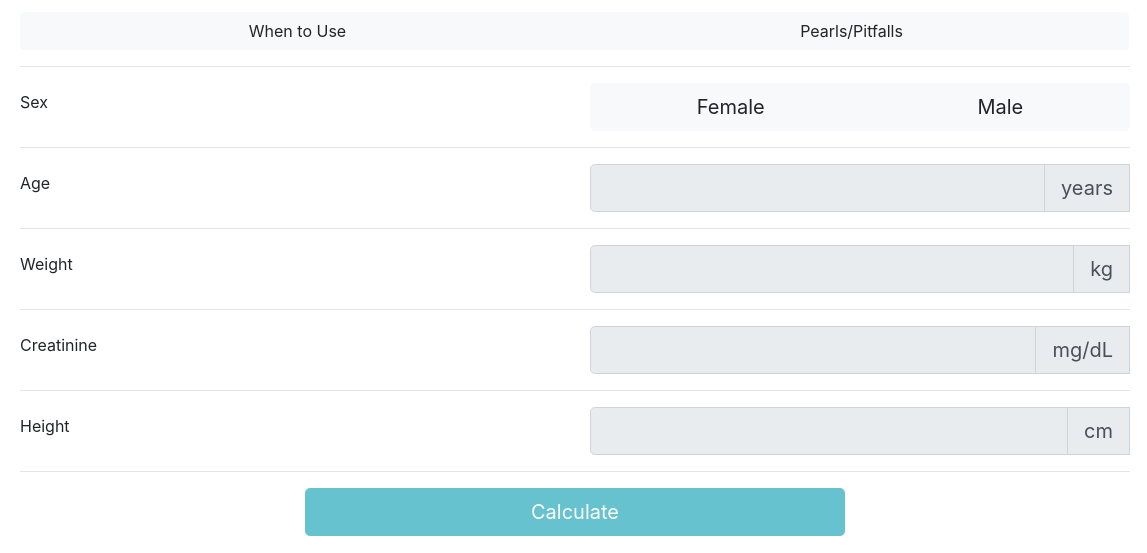
Test case: Application › shows information about › when to use calculator
This screenshot has width=1147, height=553.
Click the button "When to Use" at (298, 31), box [20,12,575,50]
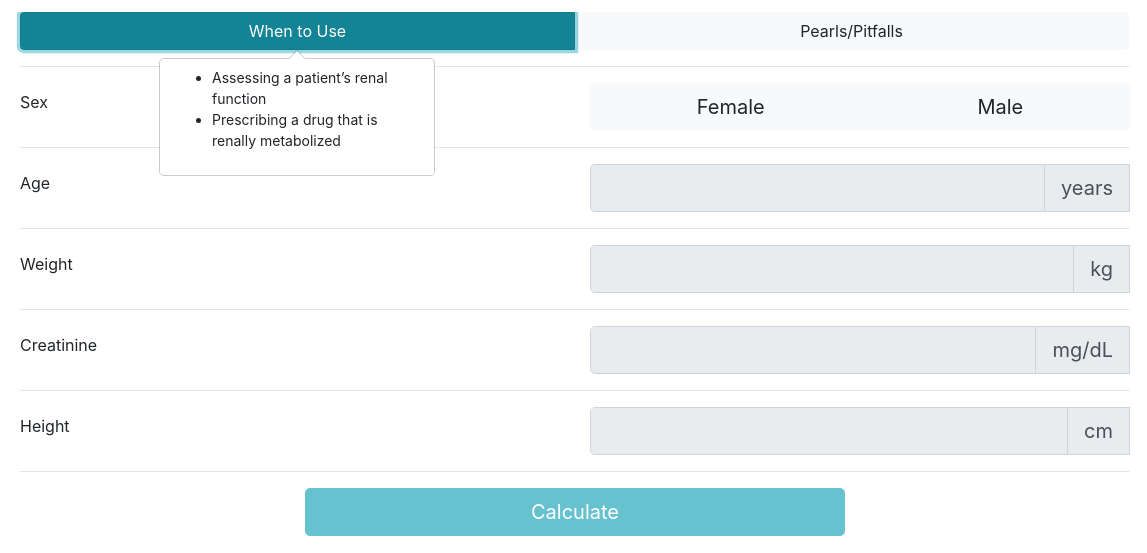
Result: the list item "Assessing a patient’s renal function" is shown at [212,69,388,107]
Result: the list item "Prescribing a drug that is renally metabolized" is shown at [212,111,378,149]
